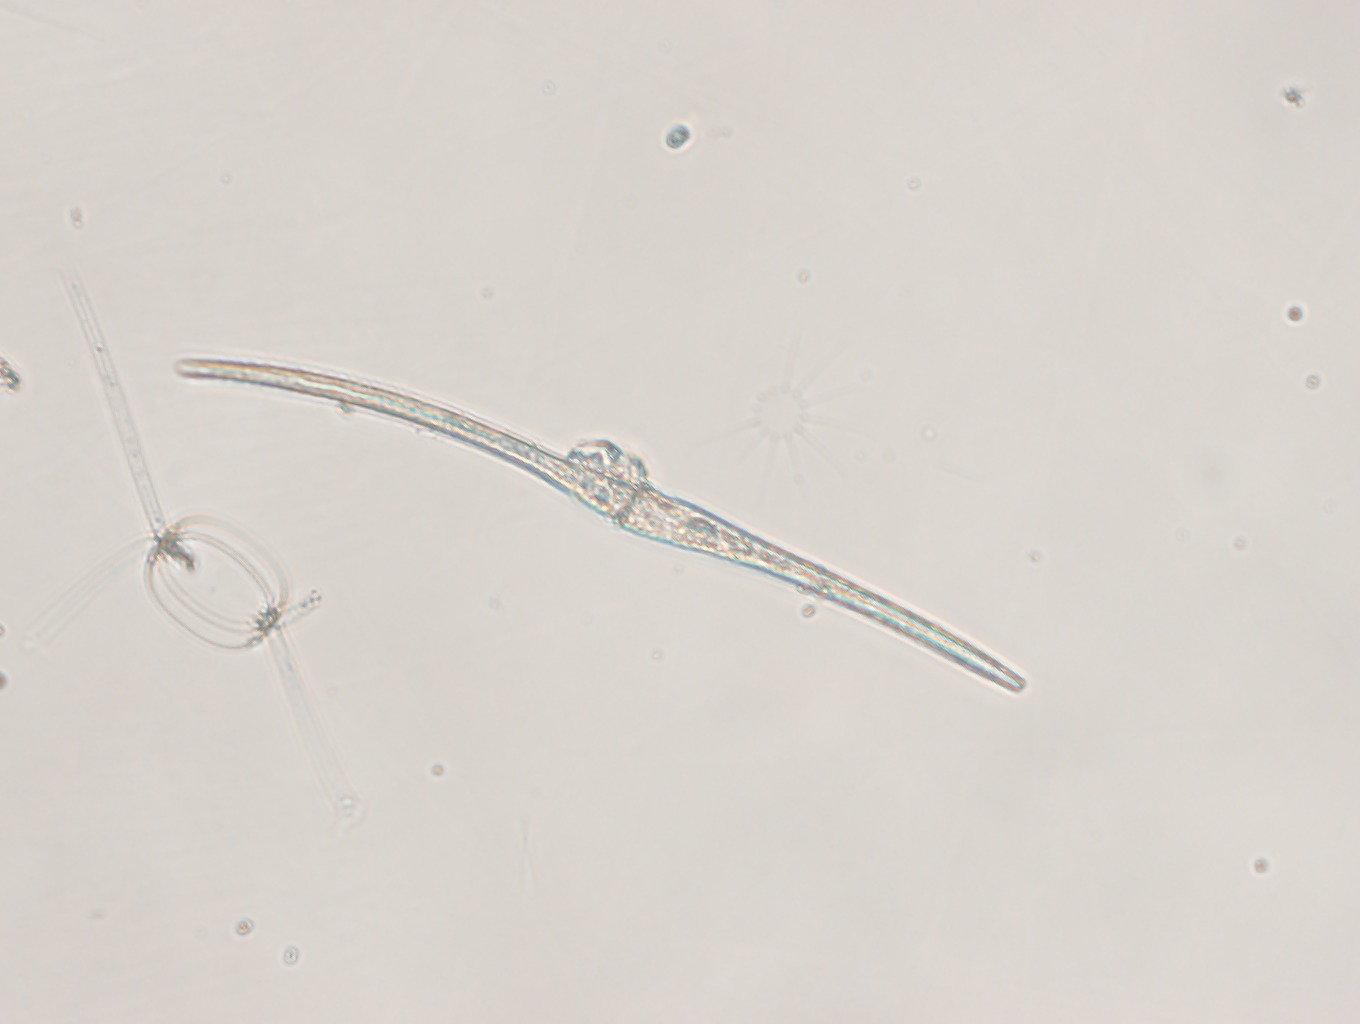bacteriastrum: (662, 341, 933, 497)
ceratium fusus: (164, 342, 1039, 698)
chaetoceros: (25, 251, 373, 831)
